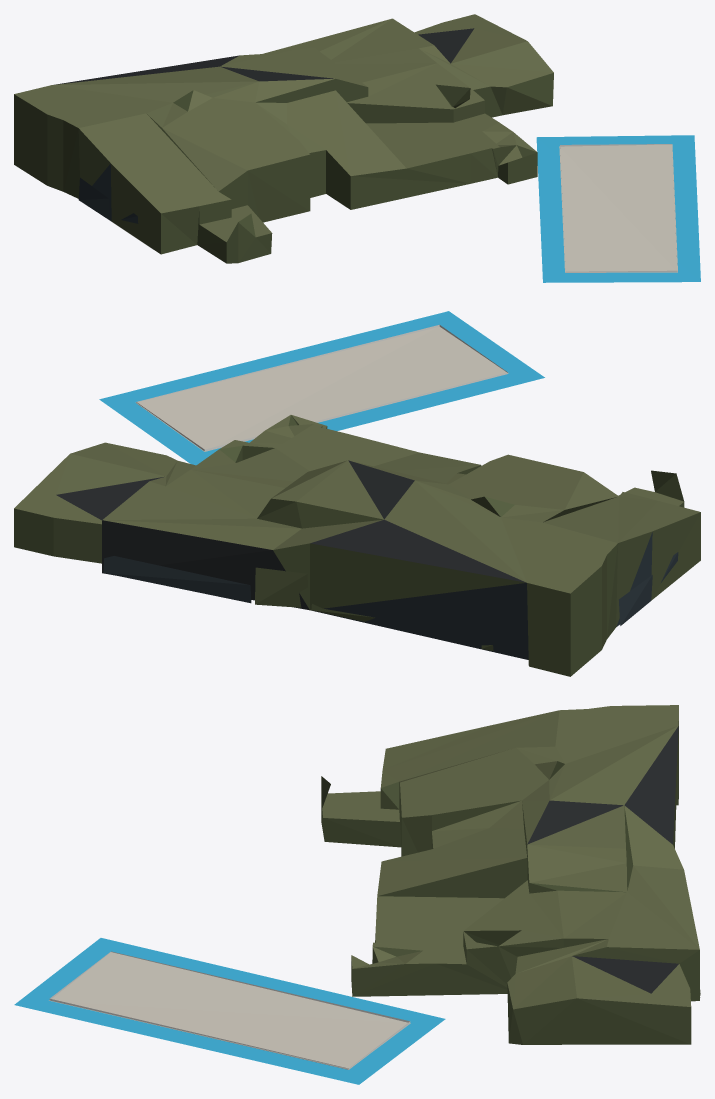
File: sportplaza-mercator.lod2.glb
3 renders of one model, top to bottom at view 1: azimuth 30°, elevation 25°; view 2: azimuth 150°, elevation 25°; view 3: azimuth 270°, elevation 25°, orthographic. The views are drawn at different scales.
Visible parts, largest first — view 1: lod2; view 2: lod2; view 3: lod2.
Part boxes in pixels (x1,y1,x2,y2): lod2: (14, 14, 700, 282); lod2: (14, 311, 700, 676); lod2: (14, 705, 700, 1084).
Bounding box in the file's own units: 101 × 14.89 × 98.08.
